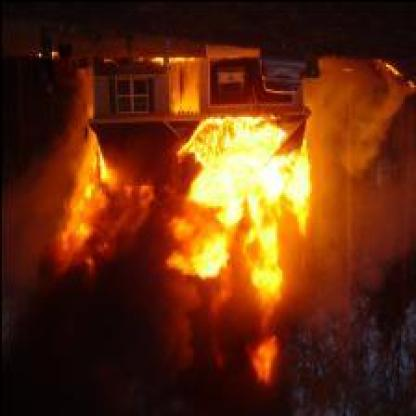Fire: (176, 112, 309, 287)
